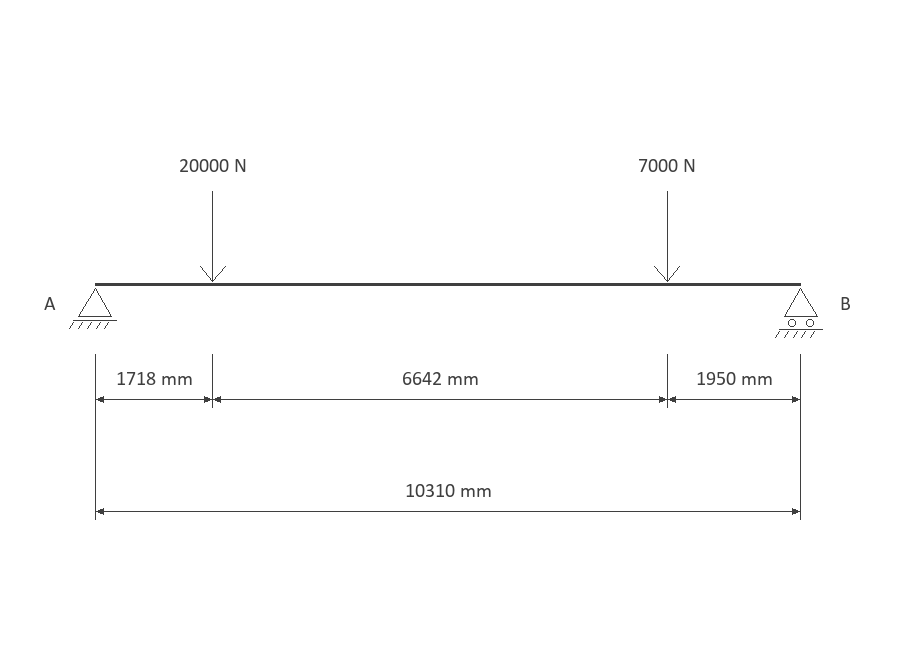pin_support: (69, 288, 117, 329)
point_load: (200, 191, 226, 282), (654, 191, 680, 282)
roller_support: (775, 288, 823, 338)
